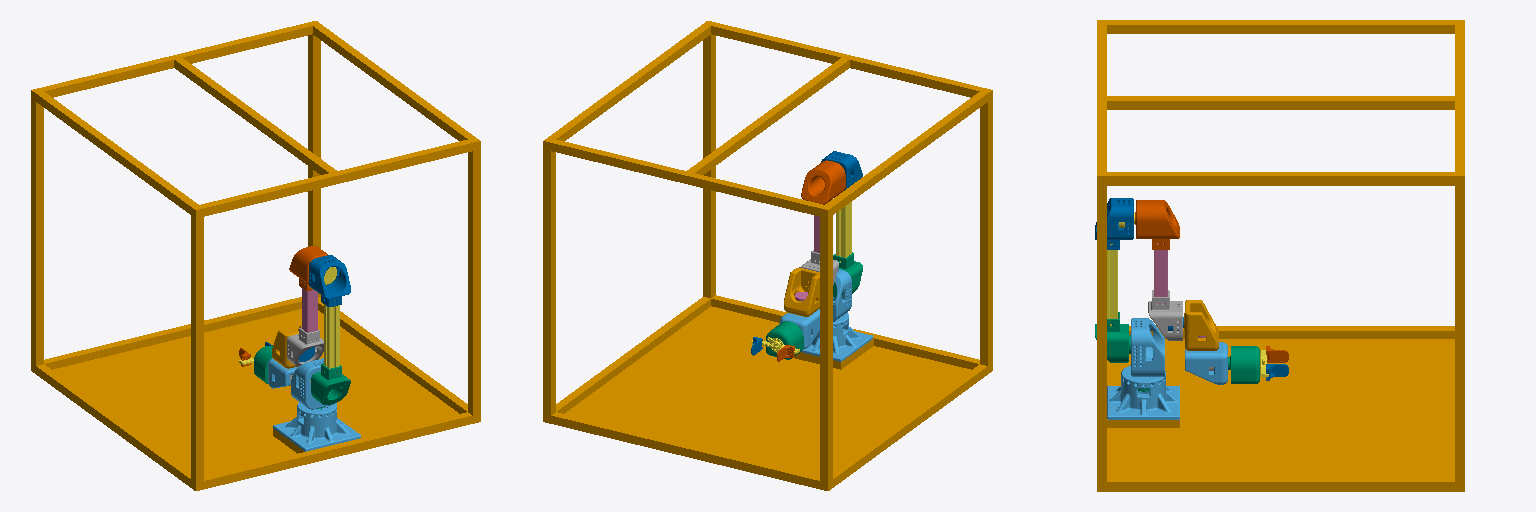
The robot description file, URDF, robot "my_robot_with_cage":
<?xml version='1.0' encoding='utf-8'?>
<robot name="my_robot_with_cage">
  <link name="cage">
    <inertial>
      <origin xyz="0 0 0.5" rpy="0 0 0" />
      <mass value="1.0" />
      <inertia ixx="0.177000" ixy="0.000000" ixz="0.000000" iyy="0.177000" iyz="0.000000" izz="0.187000" />
    </inertial>
    <visual>
      <origin xyz="0 0 0" rpy="0 0 0" />
      <geometry>
        <mesh filename="package://sim/meshes/Cage.stl" scale="0.001 0.001 0.001" />
      </geometry>
    </visual>
    <collision>
      <origin xyz="0 0 0" rpy="0 0 0" />
      <geometry>
        <mesh filename="package://sim/meshes/Cage.stl" scale="0.001 0.001 0.001" />
      </geometry>
    </collision>
  </link>
  <link name="base">
    <inertial>
      <origin xyz="-0.000002481630 0.000000483416 0.035385988818" rpy="0 0 0" />
      <mass value="0.685513" />
      <inertia ixx="0.002363000000" ixy="0.000000000000" ixz="0.000000000000" iyy="0.002295000000" iyz="0.000000000000" izz="0.003326000000" />
    </inertial>
    <visual>
      <geometry>
        <mesh filename="package://sim/meshes/base.stl" scale="0.001 0.001 0.001" />
      </geometry>
    </visual>
    <collision>
      <geometry>
        <mesh filename="package://sim/meshes/base.stl" scale="0.001 0.001 0.001" />
      </geometry>
    </collision>
  </link>
  <link name="rs02_1">
    <inertial>
      <origin xyz="0.000000000000 0.000000000000 -0.018300000000" rpy="0 0 0" />
      <mass value="0.411618" />
      <inertia ixx="0.000201" ixy="0.000000" ixz="0.000000" iyy="0.000200" iyz="0.000000" izz="0.000287" />
    </inertial>
    <visual>
      <geometry>
        <mesh filename="package://sim/meshes/RS02(0.0.0).stl" scale="0.001 0.001 0.001" />
      </geometry>
    </visual>
    <collision>
      <geometry>
        <mesh filename="package://sim/meshes/RS02(0.0.0).stl" scale="0.001 0.001 0.001" />
      </geometry>
    </collision>
  </link>
  <link name="rs02_2">
    <inertial>
      <origin xyz="0.000000000000 0.000000000000 -0.018300000000" rpy="0 0 0" />
      <mass value="0.411618" />
      <inertia ixx="0.000201" ixy="0.000000" ixz="0.000000" iyy="0.000200" iyz="0.000000" izz="0.000287" />
    </inertial>
    <visual>
      <geometry>
        <mesh filename="package://sim/meshes/RS02(0.0.0).stl" scale="0.001 0.001 0.001" />
      </geometry>
    </visual>
    <collision>
      <geometry>
        <mesh filename="package://sim/meshes/RS02(0.0.0).stl" scale="0.001 0.001 0.001" />
      </geometry>
    </collision>
  </link>
  <link name="rs02_3">
    <inertial>
      <origin xyz="0.000000000000 0.000000000000 -0.018300000000" rpy="0 0 0" />
      <mass value="0.411618" />
      <inertia ixx="0.000201" ixy="0.000000" ixz="0.000000" iyy="0.000200" iyz="0.000000" izz="0.000287" />
    </inertial>
    <visual>
      <geometry>
        <mesh filename="package://sim/meshes/RS02(0.0.0).stl" scale="0.001 0.001 0.001" />
      </geometry>
    </visual>
    <collision>
      <geometry>
        <mesh filename="package://sim/meshes/RS02(0.0.0).stl" scale="0.001 0.001 0.001" />
      </geometry>
    </collision>
  </link>
  <link name="rs03">
    <inertial>
      <origin xyz="0.000000000000 0.000000000000 -0.021500000000" rpy="0 0 0" />
      <mass value="0.924357" />
      <inertia ixx="0.000880" ixy="-0.000001" ixz="-0.000007" iyy="0.000920" iyz="-0.000001" izz="0.001201" />
    </inertial>
    <visual>
      <geometry>
        <mesh filename="package://sim/meshes/RS03(0.0.0).stl" scale="0.001 0.001 0.001" />
      </geometry>
    </visual>
    <collision>
      <geometry>
        <mesh filename="package://sim/meshes/RS03(0.0.0).stl" scale="0.001 0.001 0.001" />
      </geometry>
    </collision>
  </link>
  <link name="rs00_1">
    <inertial>
      <origin xyz="0.000000000000 0.000000000000 -0.020800000000" rpy="0 0 0" />
      <mass value="0.311841" />
      <inertia ixx="0.000130" ixy="0.000000" ixz="0.000000" iyy="0.000129" iyz="0.000000" izz="0.000127" />
    </inertial>
    <visual>
      <geometry>
        <mesh filename="package://sim/meshes/RS00.stl" scale="0.001 0.001 0.001" />
      </geometry>
    </visual>
    <collision>
      <geometry>
        <mesh filename="package://sim/meshes/RS00.stl" scale="0.001 0.001 0.001" />
      </geometry>
    </collision>
  </link>
  <link name="rs00_2">
    <inertial>
      <origin xyz="0.000000000000 0.000000000000 -0.020800000000" rpy="0 0 0" />
      <mass value="0.311841" />
      <inertia ixx="0.000130" ixy="0.000000" ixz="0.000000" iyy="0.000129" iyz="0.000000" izz="0.000127" />
    </inertial>
    <visual>
      <geometry>
        <mesh filename="package://sim/meshes/RS00.stl" scale="0.001 0.001 0.001" />
      </geometry>
    </visual>
    <collision>
      <geometry>
        <mesh filename="package://sim/meshes/RS00.stl" scale="0.001 0.001 0.001" />
      </geometry>
    </collision>
  </link>
  <link name="rs05">
    <inertial>
      <origin xyz="0.000000000000 0.000000000000 -0.018300000000" rpy="0 0 0" />
      <mass value="0.191090" />
      <inertia ixx="0.000082" ixy="0.000000" ixz="0.000000" iyy="0.000082" iyz="0.000000" izz="0.000068" />
    </inertial>
    <visual>
      <geometry>
        <mesh filename="package://sim/meshes/RS05.stl" scale="0.001 0.001 0.001" />
      </geometry>
    </visual>
    <collision>
      <geometry>
        <mesh filename="package://sim/meshes/RS05.stl" scale="0.001 0.001 0.001" />
      </geometry>
    </collision>
  </link>
  <link name="joint1">
    <inertial>
      <origin xyz="0.005674051863 0.000004286091 -0.057303043346" rpy="0 0 0" />
      <mass value="0.431305" />
      <inertia ixx="0.001623000000" ixy="0.000000000000" ixz="-0.000147000000" iyy="0.001247000000" iyz="0.000000000000" izz="0.001062000000" />
    </inertial>
    <visual>
      <geometry>
        <mesh filename="package://sim/meshes/joint1.stl" scale="0.001 0.001 0.001" />
      </geometry>
    </visual>
    <collision>
      <geometry>
        <mesh filename="package://sim/meshes/joint1.stl" scale="0.001 0.001 0.001" />
      </geometry>
    </collision>
  </link>
  <link name="link1_1">
    <inertial>
      <origin xyz="0.000000023649 0.022463093246 -0.044901219300" rpy="0 0 0" />
      <mass value="0.350100" />
      <inertia ixx="0.000685000000" ixy="0.000000000000" ixz="0.000000000000" iyy="0.000466000000" iyz="0.000123000000" izz="0.000710000000" />
    </inertial>
    <visual>
      <geometry>
        <mesh filename="package://sim/meshes/link1_1.stl" scale="0.001 0.001 0.001" />
      </geometry>
    </visual>
    <collision>
      <geometry>
        <mesh filename="package://sim/meshes/link1_1.stl" scale="0.001 0.001 0.001" />
      </geometry>
    </collision>
  </link>
  <link name="link1_2">
    <inertial>
      <origin xyz="0.000001692897 -0.000002036842 0.150000000000" rpy="0 0 0" />
      <mass value="0.502204" />
      <inertia ixx="0.003839000000" ixy="0.000000000000" ixz="0.000000000000" iyy="0.003839000000" iyz="0.000000000000" izz="0.000146000000" />
    </inertial>
    <visual>
      <geometry>
        <mesh filename="package://sim/meshes/link1_2.stl" scale="0.001 0.001 0.001" />
      </geometry>
    </visual>
    <collision>
      <geometry>
        <mesh filename="package://sim/meshes/link1_2.stl" scale="0.001 0.001 0.001" />
      </geometry>
    </collision>
  </link>
  <link name="link1_3">
    <inertial>
      <origin xyz="-0.000000247094 0.013972966263 0.024671979261" rpy="0 0 0" />
      <mass value="0.322751" />
      <inertia ixx="0.000782" ixy="-0.000000" ixz="0.000000" iyy="0.000825" iyz="-0.000146" izz="0.000565" />
    </inertial>
    <visual>
      <geometry>
        <mesh filename="package://sim/meshes/link1_3.stl" scale="0.001 0.001 0.001" />
      </geometry>
    </visual>
    <collision>
      <geometry>
        <mesh filename="package://sim/meshes/link1_3.stl" scale="0.001 0.001 0.001" />
      </geometry>
    </collision>
  </link>
  <link name="link2_1">
    <inertial>
      <origin xyz="0.000292828584 -0.016532981001 -0.058100411057" rpy="0 0 0" />
      <mass value="0.697618" />
      <inertia ixx="0.001532" ixy="0.000011" ixz="0.000003" iyy="0.001240" iyz="-0.000252" izz="0.001364" />
    </inertial>
    <visual>
      <geometry>
        <mesh filename="package://sim/meshes/link2_1.stl" scale="0.001 0.001 0.001" />
      </geometry>
    </visual>
    <collision>
      <geometry>
        <mesh filename="package://sim/meshes/link2_1.stl" scale="0.001 0.001 0.001" />
      </geometry>
    </collision>
  </link>
  <link name="link2_2">
    <inertial>
      <origin xyz="0.000000000000 0.000000000000 0.115000000000" rpy="0 0 0" />
      <mass value="0.154772" />
      <inertia ixx="0.000690000000" ixy="0.000000000000" ixz="0.000000000000" iyy="0.000690000000" iyz="0.000000000000" izz="0.000048000000" />
    </inertial>
    <visual>
      <geometry>
        <mesh filename="package://sim/meshes/link2_2.stl" scale="0.001 0.001 0.001" />
      </geometry>
    </visual>
    <collision>
      <geometry>
        <mesh filename="package://sim/meshes/link2_2.stl" scale="0.001 0.001 0.001" />
      </geometry>
    </collision>
  </link>
  <link name="link2_3">
    <inertial>
      <origin xyz="0.000706986549 -0.016567090147 0.016764480768" rpy="0 0 0" />
      <mass value="0.288847" />
      <inertia ixx="0.000594" ixy="-0.000003" ixz="0.000008" iyy="0.000616" iyz="0.000166" izz="0.000463" />
    </inertial>
    <visual>
      <geometry>
        <mesh filename="package://sim/meshes/link2_3.stl" scale="0.001 0.001 0.001" />
      </geometry>
    </visual>
    <collision>
      <geometry>
        <mesh filename="package://sim/meshes/link2_3.stl" scale="0.001 0.001 0.001" />
      </geometry>
    </collision>
  </link>
  <link name="link3_1">
    <inertial>
      <origin xyz="-0.000000154781 0.022689723837 -0.040161124828" rpy="0 0 0" />
      <mass value="0.264011" />
      <inertia ixx="0.000540000000" ixy="0.000000000000" ixz="0.000000000000" iyy="0.000493000000" iyz="0.000101000000" izz="0.000580000000" />
    </inertial>
    <visual>
      <geometry>
        <mesh filename="package://sim/meshes/link3_1.stl" scale="0.001 0.001 0.001" />
      </geometry>
    </visual>
    <collision>
      <geometry>
        <mesh filename="package://sim/meshes/link3_1.stl" scale="0.001 0.001 0.001" />
      </geometry>
    </collision>
  </link>
  <link name="link3_2">
    <inertial>
      <origin xyz="-0.000001870544 0.023210308078 -0.045745385269" rpy="0 0 0" />
      <mass value="0.259261" />
      <inertia ixx="0.000535000000" ixy="0.000000000000" ixz="0.000000000000" iyy="0.000491000000" iyz="0.000098000000" izz="0.000579000000" />
    </inertial>
    <visual>
      <geometry>
        <mesh filename="package://sim/meshes/link3_2.stl" scale="0.001 0.001 0.001" />
      </geometry>
    </visual>
    <collision>
      <geometry>
        <mesh filename="package://sim/meshes/link3_2.stl" scale="0.001 0.001 0.001" />
      </geometry>
    </collision>
  </link>
  <link name="link3_3">
    <inertial>
      <origin xyz="-0.000000287070 0.001356284705 -0.050392020362" rpy="0 0 0" />
      <mass value="0.202651" />
      <inertia ixx="0.000305000000" ixy="0.000000000000" ixz="0.000000000000" iyy="0.000348000000" iyz="-0.000010000000" izz="0.000343000000" />
    </inertial>
    <visual>
      <geometry>
        <mesh filename="package://sim/meshes/link3_3.stl" scale="0.001 0.001 0.001" />
      </geometry>
    </visual>
    <collision>
      <geometry>
        <mesh filename="package://sim/meshes/link3_3.stl" scale="0.001 0.001 0.001" />
      </geometry>
    </collision>
  </link>
  <link name="gripper">
    <inertial>
      <origin xyz="-0.000001543486 -0.000002896980 -0.012058477856" rpy="0 0 0" />
      <mass value="0.090928" />
      <inertia ixx="0.000134000000" ixy="0.000006000000" ixz="0.000000000000" iyy="0.000013000000" iyz="0.000000000000" izz="0.000138000000" />
    </inertial>
    <visual>
      <geometry>
        <mesh filename="package://sim/meshes/gripper.stl" scale="0.001 0.001 0.001" />
      </geometry>
    </visual>
    <collision>
      <geometry>
        <mesh filename="package://sim/meshes/gripper.stl" scale="0.001 0.001 0.001" />
      </geometry>
    </collision>
  </link>
  <link name="finger_r">
    <inertial>
      <origin xyz="0.000927864812 0.006622883789 -0.011071668038" rpy="0 0 0" />
      <mass value="0.030964" />
      <inertia ixx="0.000011000000" ixy="0.000000000000" ixz="0.000000000000" iyy="0.000012000000" iyz="0.000003000000" izz="0.000006000000" />
    </inertial>
    <visual>
      <geometry>
        <mesh filename="package://sim/meshes/finger_r.stl" scale="0.001 0.001 0.001" />
      </geometry>
    </visual>
    <collision>
      <geometry>
        <mesh filename="package://sim/meshes/finger_r.stl" scale="0.001 0.001 0.001" />
      </geometry>
    </collision>
  </link>
  <link name="finger_l">
    <inertial>
      <origin xyz="-0.000922783846 -0.006622999429 -0.011071668038" rpy="0 0 0" />
      <mass value="0.030964" />
      <inertia ixx="0.000011000000" ixy="0.000000000000" ixz="0.000000000000" iyy="0.000012000000" iyz="-0.000003000000" izz="0.000006000000" />
    </inertial>
    <visual>
      <geometry>
        <mesh filename="package://sim/meshes/finger_l.stl" scale="0.001 0.001 0.001" />
      </geometry>
    </visual>
    <collision>
      <geometry>
        <mesh filename="package://sim/meshes/finger_l.stl" scale="0.001 0.001 0.001" />
      </geometry>
    </collision>
  </link>
  <joint name="cage_to_base" type="fixed">
    <parent link="cage" />
    <child link="base" />
    <origin xyz="0 0 0.03" rpy="0 0 0" />
  </joint>
  <joint name="m1" type="fixed">
    <parent link="base" />
    <child link="rs02_1" />
    <origin xyz="0 0 0.1002" rpy="0 0 1.570796" />
  </joint>
  <joint name="j1" type="revolute">
    <parent link="rs02_1" />
    <child link="joint1" />
    <origin xyz="0 0 0" rpy="3.14159 0 0" />
    <axis xyz="0 0 1" />
    <limit lower="-3.14159" upper="3.14159" effort="50" velocity="100" />
  </joint>
  <joint name="m2" type="fixed">
    <parent link="joint1" />
    <child link="rs03" />
    <origin xyz="-0.0362 0 -0.0893" rpy="1.5708 0 -1.5708" />
  </joint>
  <joint name="j2" type="revolute">
    <parent link="rs03" />
    <child link="link1_1" />
    <origin xyz="0 0 0" rpy="3.1415926 0 0" />
    <axis xyz="0 0 1" />
    <limit lower="-1.78" upper="1.78" effort="50" velocity="100" />
  </joint>
  <joint name="j2_2" type="fixed">
    <parent link="link1_1" />
    <child link="link1_2" />
    <origin xyz="0 0.05 -0.05715" rpy="-1.5708 0 0" />
  </joint>
  <joint name="j2_3" type="fixed">
    <parent link="link1_2" />
    <child link="link1_3" />
    <origin xyz="0 0 0.3" rpy="0 0 3.1415926" />
  </joint>
  <joint name="m3" type="fixed">
    <parent link="link1_3" />
    <child link="rs02_2" />
    <origin xyz="0 0.06735 0.050" rpy="-1.5708 0 0" />
  </joint>
  <joint name="j3" type="revolute">
    <parent link="rs02_2" />
    <child link="link2_1" />
    <origin xyz="0 0 0" rpy="3.1415926 0 0" />
    <axis xyz="0 0 1" />
    <limit lower="-3.14159" upper="3.14159" effort="50" velocity="100" />
  </joint>
  <joint name="j3_2" type="fixed">
    <parent link="link2_1" />
    <child link="link2_2" />
    <origin xyz="0 -0.050 -0.07465" rpy="1.5708 0 0" />
  </joint>
  <joint name="j3_3" type="fixed">
    <parent link="link2_2" />
    <child link="link2_3" />
    <origin xyz="0 0 0.23" rpy="0 0 0" />
  </joint>
  <joint name="m4" type="fixed">
    <parent link="link2_3" />
    <child link="rs02_3" />
    <origin xyz="0 -0.06585 0.05" rpy="1.5708 0 0" />
  </joint>
  <joint name="j4" type="revolute">
    <parent link="rs02_3" />
    <child link="link3_1" />
    <origin xyz="0 0 0" rpy="0 3.14159 0" />
    <axis xyz="0 0 1" />
    <limit lower="-3.14159" upper="3.14159" effort="50" velocity="100" />
  </joint>
  <joint name="m5" type="fixed">
    <parent link="link3_1" />
    <child link="rs00_1" />
    <origin xyz="0 0.0724 -0.053" rpy="-1.5708 0 0" />
  </joint>
  <joint name="j5" type="revolute">
    <parent link="rs00_1" />
    <child link="link3_2" />
    <origin xyz="0 0 0" rpy="0 3.14159 0" />
    <axis xyz="0 0 1" />
    <limit lower="-3.14159" upper="3.14159" effort="50" velocity="100" />
  </joint>
  <joint name="m6" type="fixed">
    <parent link="link3_2" />
    <child link="rs00_2" />
    <origin xyz="0 0.0724 -0.058" rpy="-1.5708 0 0" />
  </joint>
  <joint name="j6" type="revolute">
    <parent link="rs00_2" />
    <child link="link3_3" />
    <origin xyz="0 0 0" rpy="0 3.141592 3.141592" />
    <axis xyz="0 0 1" />
    <limit lower="-3.14159" upper="3.14159" effort="50" velocity="100" />
  </joint>
  <joint name="m7" type="fixed">
    <parent link="link3_3" />
    <child link="rs05" />
    <origin xyz="0 0 -0.093" rpy="0 3.141592 1.570791" />
  </joint>
  <joint name="gripper_base" type="fixed">
    <parent link="rs05" />
    <child link="gripper" />
    <origin xyz="0 0 0" rpy="0 3.14159 0" />
  </joint>
  <joint name="finger_r" type="prismatic">
    <parent link="gripper" />
    <child link="finger_r" />
    <origin xyz="0 -0.06475 -0.0218" rpy="0 0 0" />
    <axis xyz="0 1 0" />
    <limit lower="0" upper="0.0447" effort="50" velocity="100" />
  </joint>
  <joint name="finger_l" type="prismatic">
    <parent link="gripper" />
    <child link="finger_l" />
    <origin xyz="0 0.06475 -0.0218" rpy="0 0 0" />
    <axis xyz="0 -1 0" />
    <limit lower="0" upper="0.05" effort="50" velocity="100" />
    <mimic joint="finger_r" multiplier="1.0" offset="0" />
  </joint>
</robot>

--- What the picture shows (computed from the rendered views, not written in the file) ---
3 views of the same robot in one strip: view 1: azimuth 30°, elevation 25°; view 2: azimuth 150°, elevation 25°; view 3: azimuth 270°, elevation 25° (orthographic).
Model my_robot_with_cage with 22 links and 21 joints (6 revolute, 2 prismatic, 13 fixed), rooted at cage, posed every joint at zero.
Links seen in each view (by area): view 1: cage, base, link1_3, link1_1, joint1, link1_2, link2_3, link2_1, link2_2, link3_2, link3_1; view 2: cage, link2_1, link3_1, base, link1_2, link3_3, joint1, link3_2, link1_3, link1_1; view 3: cage, base, joint1, link2_1, link3_1, link3_2, link1_3, link2_3, link3_3, link1_1, link1_2, link2_2.
Boxes of the visible links, x1=… form: cage: x1=31, y1=21, x2=480, y2=490; base: x1=273, y1=402, x2=360, y2=451; link1_3: x1=309, y1=255, x2=350, y2=306; link1_1: x1=311, y1=363, x2=350, y2=404; joint1: x1=291, y1=358, x2=332, y2=409; link1_2: x1=324, y1=300, x2=339, y2=372; link2_3: x1=287, y1=327, x2=323, y2=366; link2_1: x1=289, y1=246, x2=327, y2=290; link2_2: x1=302, y1=288, x2=317, y2=332; link3_2: x1=268, y1=358, x2=297, y2=388; link3_1: x1=272, y1=325, x2=301, y2=368; cage: x1=543, y1=21, x2=992, y2=490; link2_1: x1=801, y1=160, x2=845, y2=204; link3_1: x1=784, y1=268, x2=819, y2=316; base: x1=801, y1=312, x2=872, y2=361; link1_2: x1=836, y1=202, x2=851, y2=262; link3_3: x1=766, y1=321, x2=803, y2=359; joint1: x1=833, y1=269, x2=851, y2=321; link3_2: x1=780, y1=309, x2=819, y2=348; link1_3: x1=821, y1=151, x2=862, y2=190; link1_1: x1=833, y1=252, x2=862, y2=297; cage: x1=1097, y1=20, x2=1464, y2=491; base: x1=1107, y1=365, x2=1179, y2=419; joint1: x1=1131, y1=318, x2=1164, y2=376; link2_1: x1=1135, y1=200, x2=1179, y2=249; link3_1: x1=1184, y1=300, x2=1218, y2=350; link3_2: x1=1185, y1=342, x2=1227, y2=384; link1_3: x1=1095, y1=198, x2=1133, y2=249; link2_3: x1=1148, y1=290, x2=1182, y2=340; link3_3: x1=1228, y1=346, x2=1259, y2=383; link1_1: x1=1095, y1=312, x2=1130, y2=362; link1_2: x1=1107, y1=244, x2=1117, y2=325; link2_2: x1=1154, y1=243, x2=1167, y2=303.
Size in the robot's own frame: 1.06 by 1.07 by 1 metres.
Meshes: 19 distinct files referenced, 20 mesh visuals loaded (17 binary STL); not drawn: 2 (reference not matched to a file when rendering).
